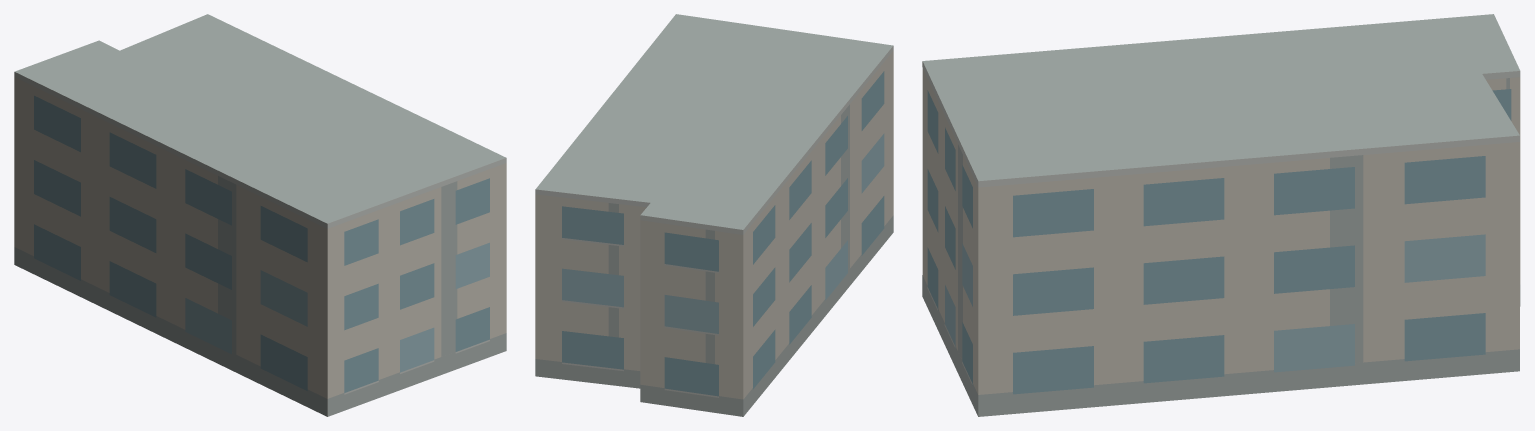
File: survey-upis-32921613.glb
3 views of the same model, side by side, from view 1: azimuth 30°, elevation 25°; view 2: azimuth 150°, elevation 25°; view 3: azimuth 270°, elevation 25° (orthographic). The views are drawn at different scales.
Visible parts, largest first — view 1: survey-upis-32921613.tmp; view 2: survey-upis-32921613.tmp; view 3: survey-upis-32921613.tmp.
Boxes of the visible parts, x1,y1,x2,y2 form: survey-upis-32921613.tmp: (14,14,506,416); survey-upis-32921613.tmp: (535,14,893,416); survey-upis-32921613.tmp: (922,14,1520,416).
Size of the model in its own units: 13.93 by 9.15 by 21.05.
